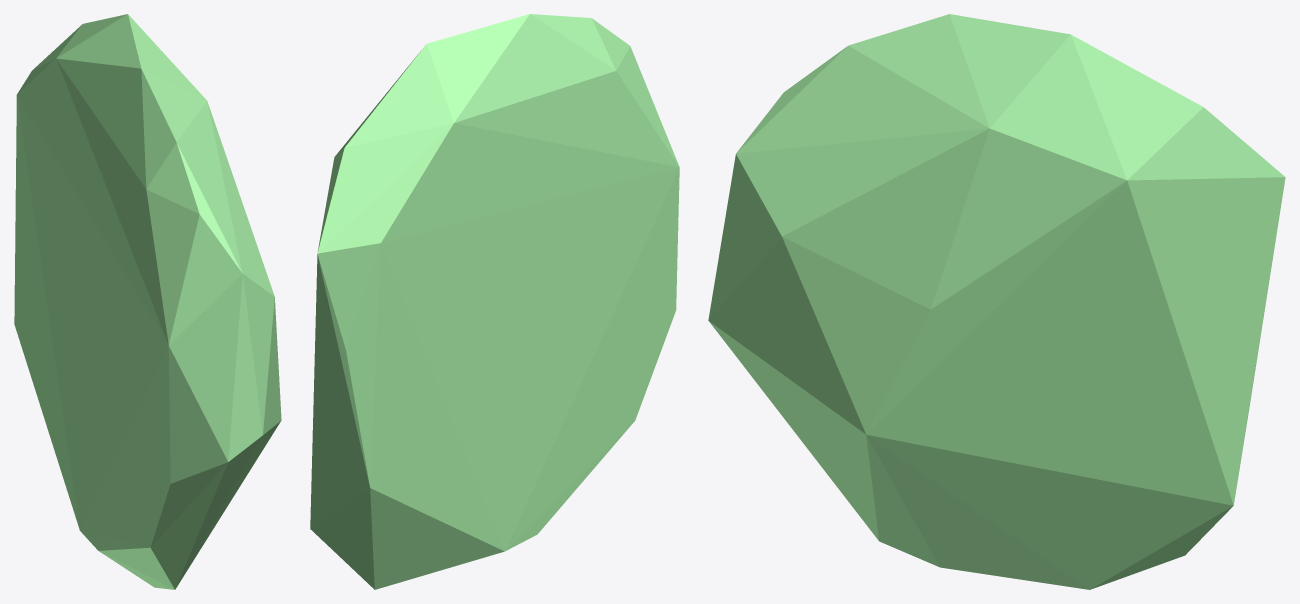
File: dvkr_robot_L3_sx_respondable_TOOL2_coll_5.dae
The picture shows the model from 3 angles, left to right: view 1: azimuth 30°, elevation 25°; view 2: azimuth 150°, elevation 25°; view 3: azimuth 270°, elevation 25°; orthographic projection. The views are drawn at different scales.
Visible parts, largest first — view 1: Node_0000023514CD64F0; view 2: Node_0000023514CD64F0; view 3: Node_0000023514CD64F0.
Part boxes in pixels (x1,y1,x2,y2): Node_0000023514CD64F0: (14, 14, 281, 589); Node_0000023514CD64F0: (310, 14, 679, 589); Node_0000023514CD64F0: (708, 14, 1285, 589).
Size of the model in its own units: 0.00159 by 0.00475 by 0.00451.
